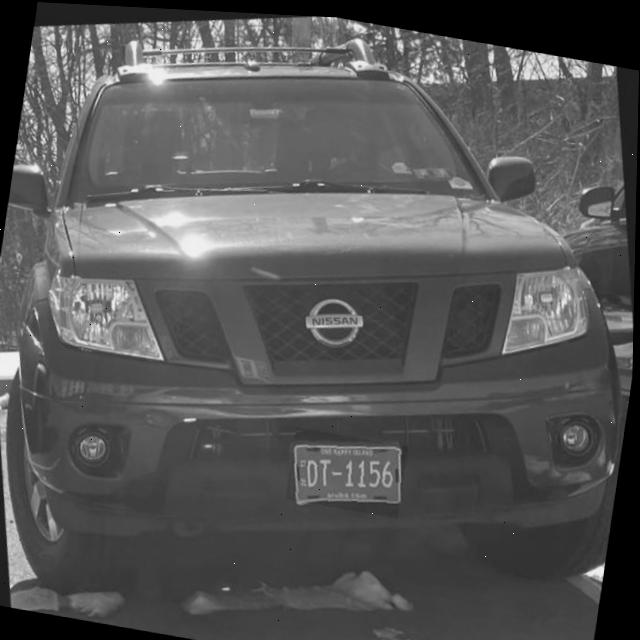LicensePlate: (295, 440, 402, 498)
